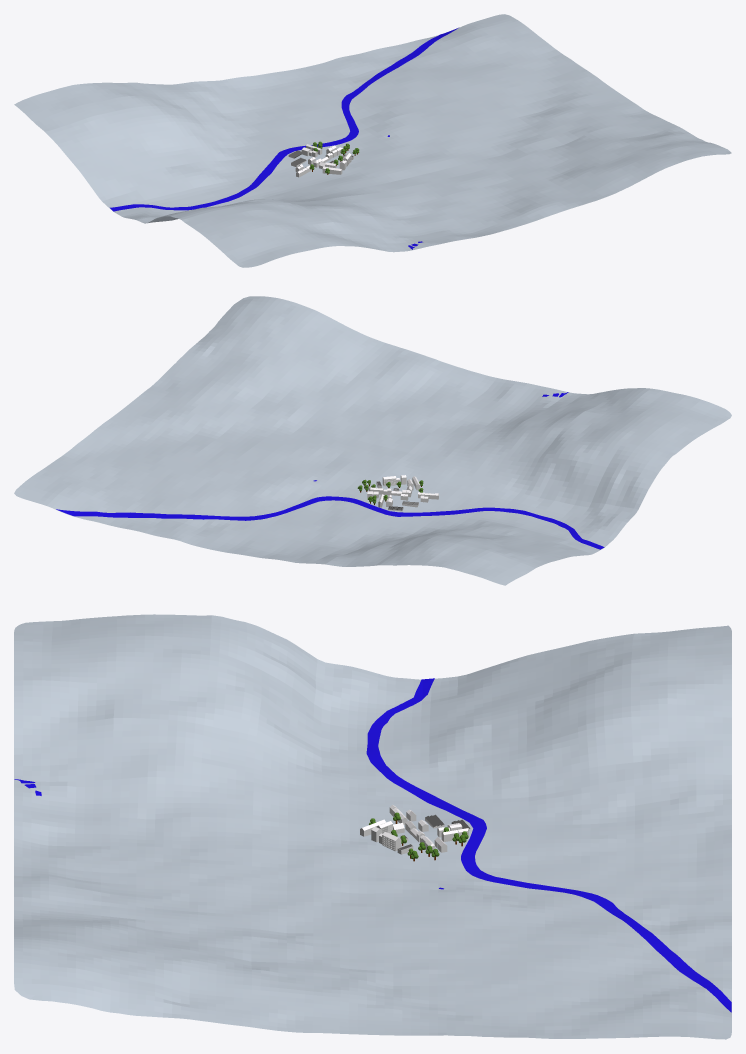
File: Arrenberg-Blender_03.gltf
The picture shows the model from 3 angles, top to bottom: view 1: azimuth 30°, elevation 25°; view 2: azimuth 150°, elevation 25°; view 3: azimuth 270°, elevation 25°; orthographic projection. The views are drawn at different scales.
Parts seen in each view (by area): view 1: Terrain.002, map_3.osm_water; view 2: Terrain.002, map_3.osm_water; view 3: Terrain.002, map_3.osm_water.
Boxes of the visible parts, bbox=[...] form: Terrain.002: bbox=[14, 14, 731, 267]; map_3.osm_water: bbox=[110, 27, 458, 249]; Terrain.002: bbox=[14, 296, 731, 585]; map_3.osm_water: bbox=[56, 392, 604, 549]; Terrain.002: bbox=[14, 614, 731, 1039]; map_3.osm_water: bbox=[14, 678, 731, 1012].
Bounding box in the file's own units: 1591 × 149 × 1299.
